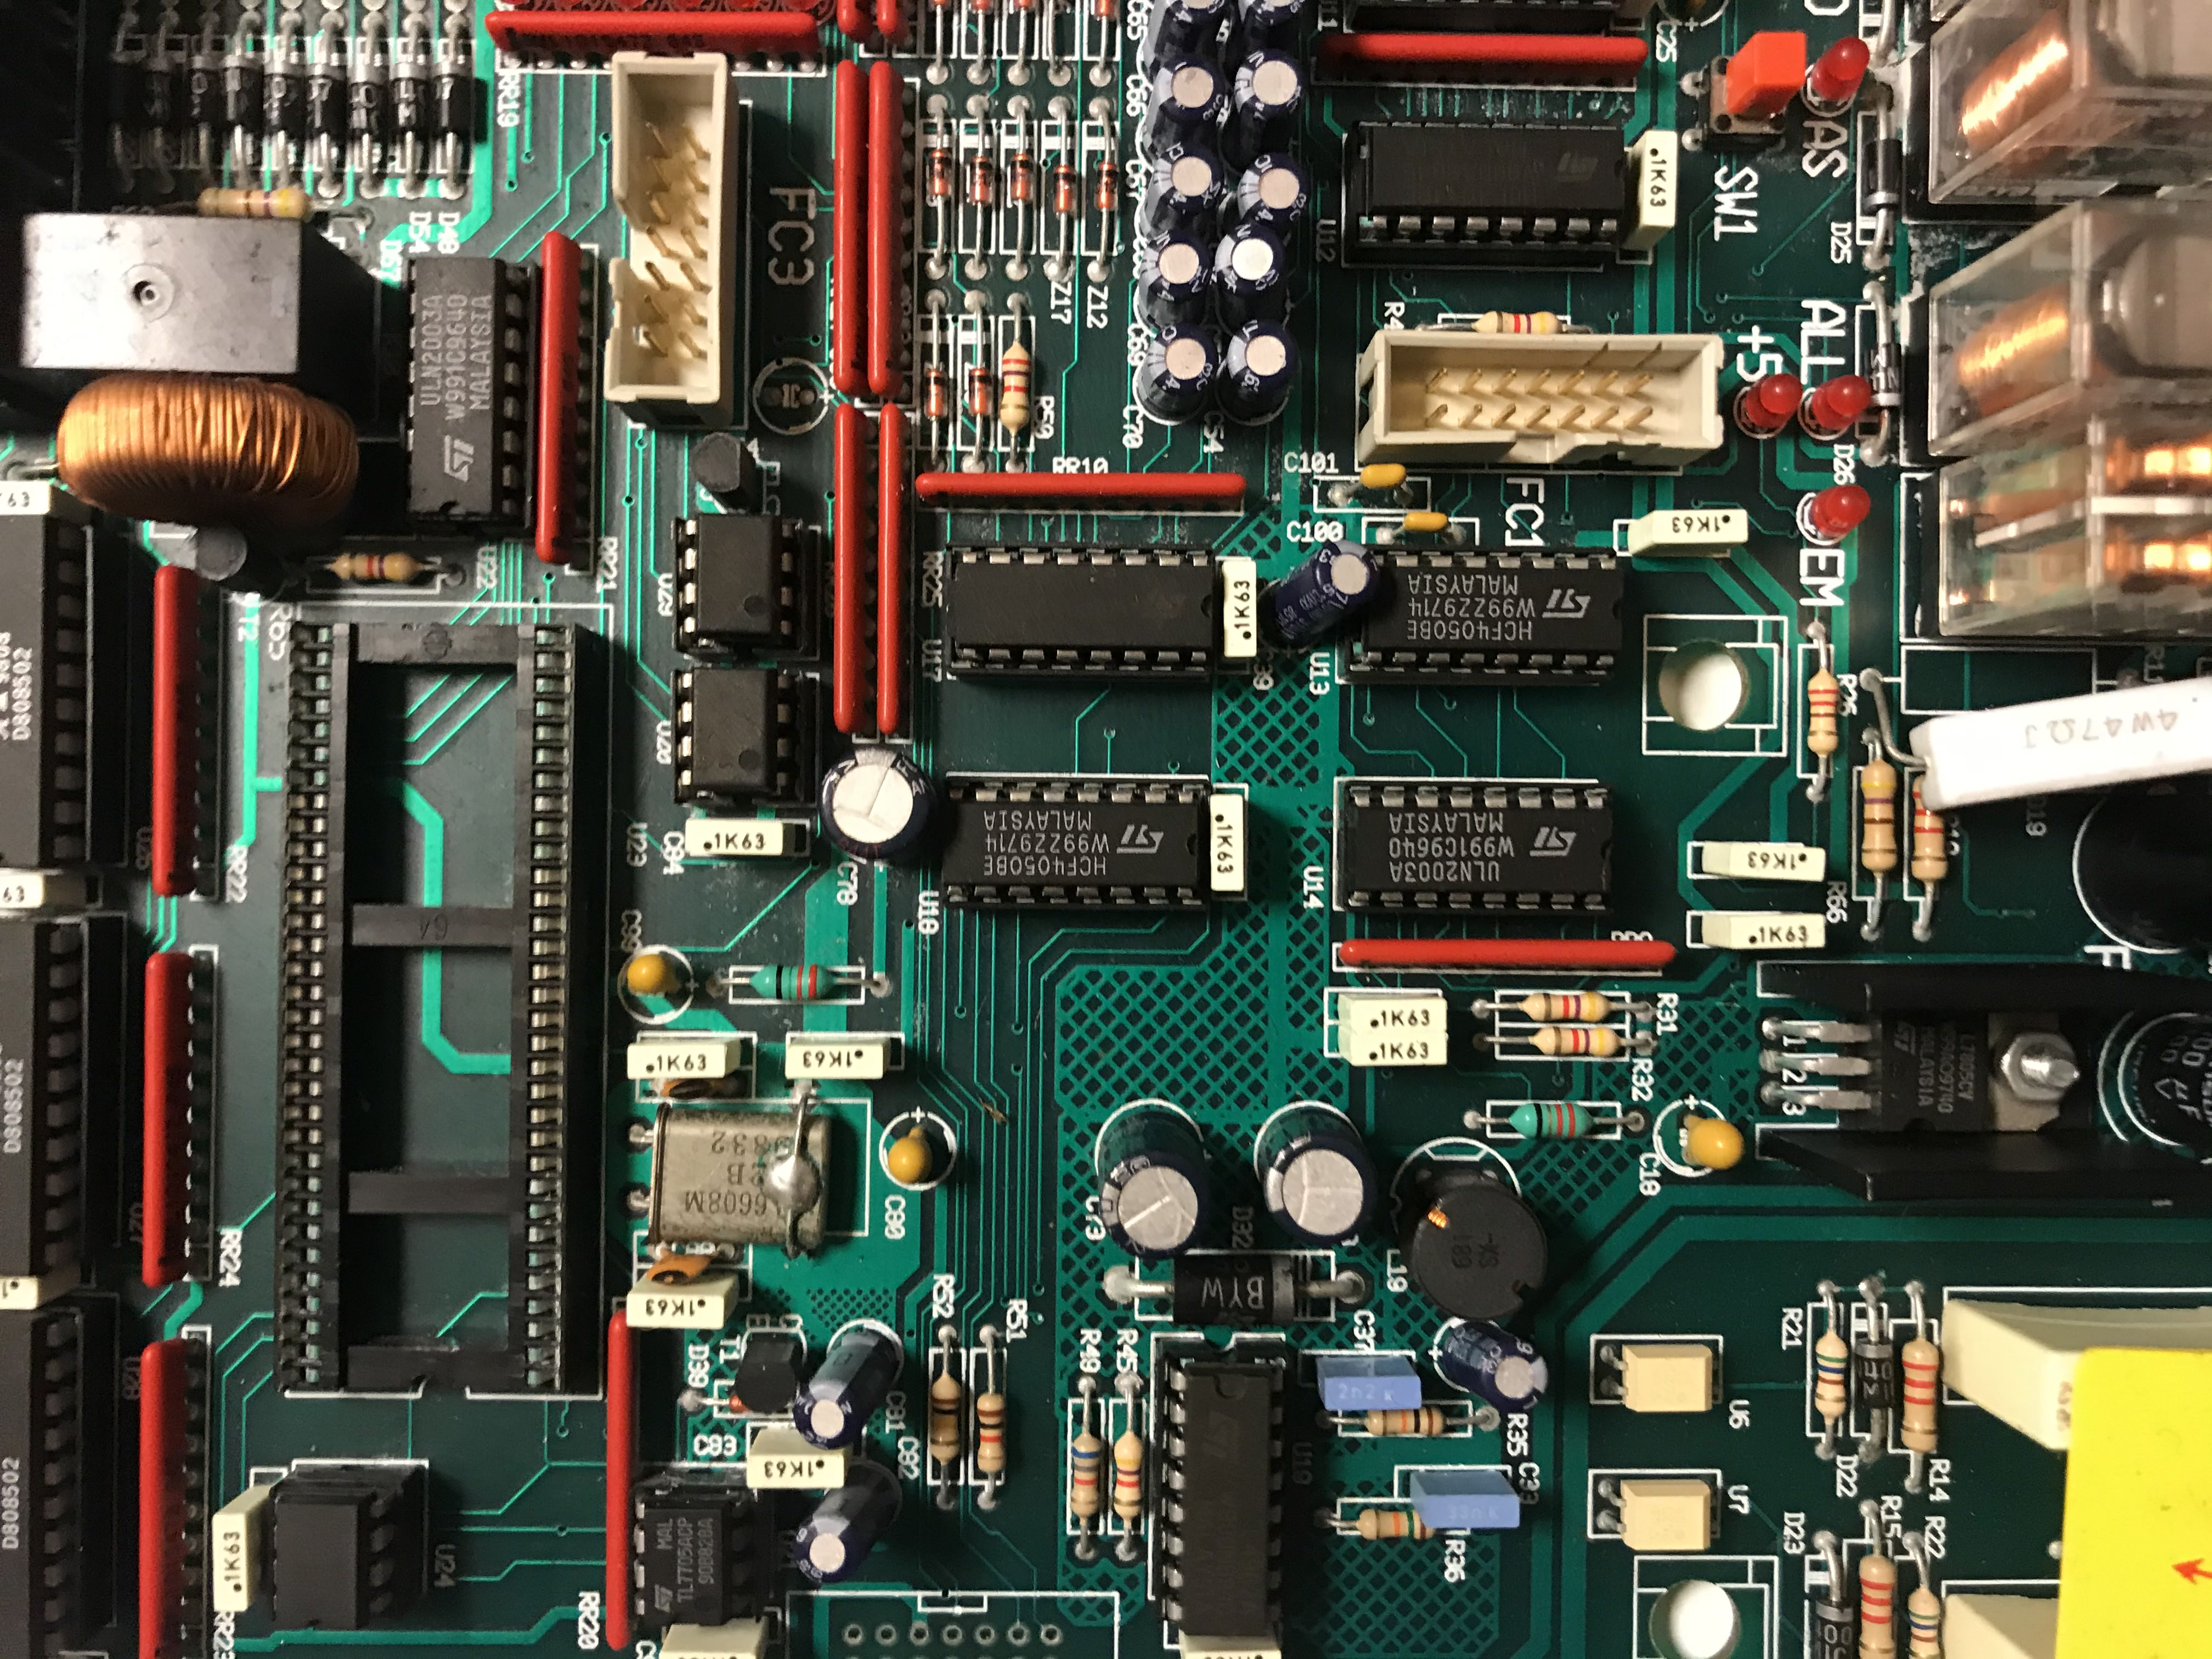Capacitor: (1090, 1103, 1217, 1260), (1256, 1103, 1381, 1249), (784, 1323, 906, 1453), (815, 744, 939, 864), (1258, 540, 1383, 653), (791, 1467, 897, 1584), (1137, 49, 1237, 171), (1440, 1319, 1550, 1413), (1136, 0, 1240, 92), (1230, 44, 1312, 155), (1139, 143, 1224, 249), (1214, 315, 1296, 425), (1224, 143, 1315, 240), (1136, 227, 1214, 336), (1139, 321, 1221, 422), (1214, 227, 1291, 331), (1233, 0, 1318, 66)
Diode: (1148, 1255, 1317, 1326), (1851, 1326, 1904, 1431), (1858, 124, 1907, 223), (387, 52, 432, 152), (430, 47, 474, 150), (1804, 1577, 1857, 1659), (1864, 328, 1909, 418), (303, 54, 348, 143), (219, 49, 261, 145), (98, 45, 143, 132), (345, 58, 387, 152), (263, 54, 303, 143), (139, 49, 181, 132), (183, 54, 226, 134), (1087, 153, 1125, 218), (1049, 155, 1083, 225), (963, 356, 995, 425), (1005, 150, 1036, 216), (921, 359, 951, 429), (925, 146, 954, 214), (965, 148, 995, 214), (716, 1391, 777, 1420)
LED: (1803, 369, 1874, 443), (1806, 35, 1872, 108), (1740, 369, 1810, 437), (1804, 479, 1871, 544)
Resistor: (1895, 1328, 1951, 1462), (1850, 1537, 1900, 1659), (1855, 758, 1900, 880), (1907, 772, 1952, 889), (1799, 653, 1841, 772), (740, 960, 853, 1004), (193, 185, 315, 225), (1343, 1502, 1453, 1546), (1810, 1317, 1851, 1431), (1498, 1098, 1609, 1140), (927, 1370, 970, 1471), (322, 545, 430, 586), (1346, 1406, 1463, 1443), (1512, 1026, 1632, 1061), (975, 1364, 1012, 1476), (1111, 1420, 1148, 1530), (998, 333, 1036, 437), (1068, 1424, 1104, 1527), (1453, 308, 1575, 338), (1904, 1572, 1944, 1659), (1510, 990, 1618, 1021)
